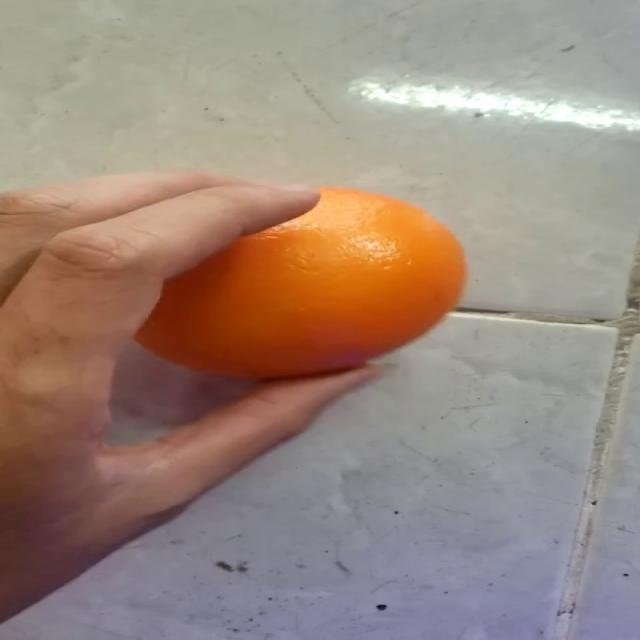Orange: (131, 183, 467, 380)
